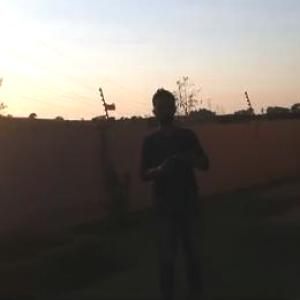follow: (133, 84, 224, 297)
